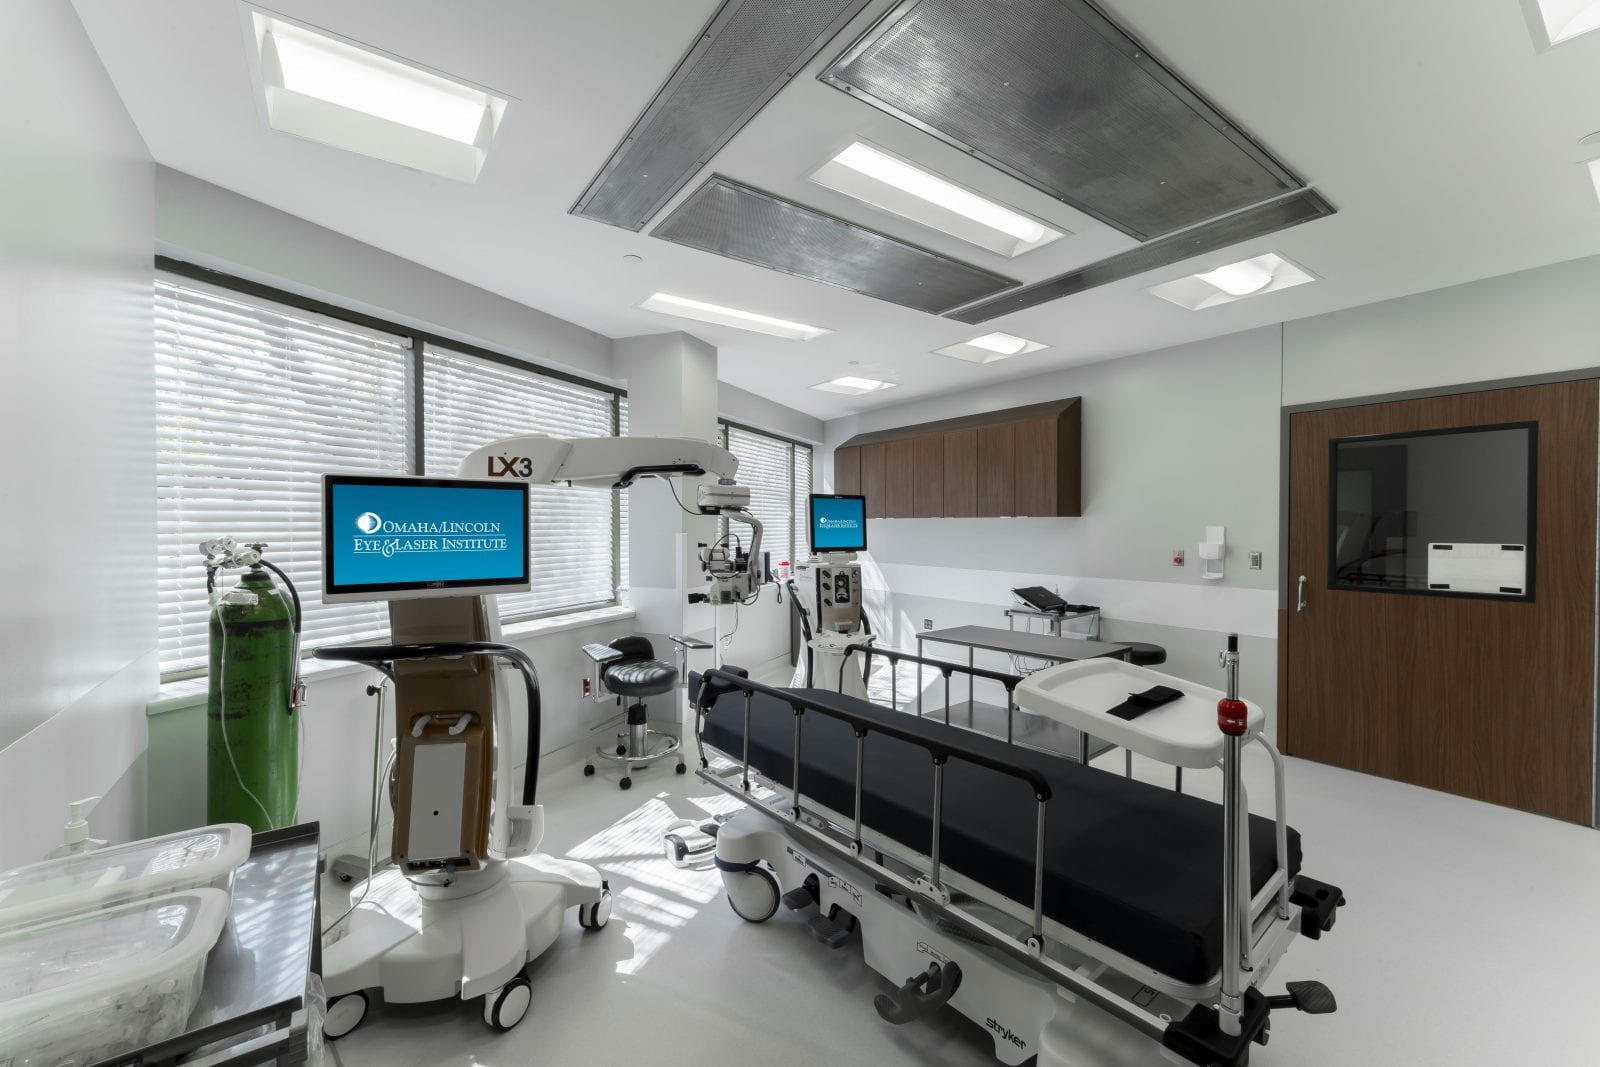TV: (1325, 417, 1540, 609)
bedrail: (685, 668, 1040, 955), (811, 641, 1033, 748)
bedside_monitor: (320, 475, 542, 599), (808, 493, 867, 553)
cabinet: (833, 424, 1085, 516)
chair: (581, 632, 710, 792)
dispenser: (33, 792, 124, 862), (1187, 528, 1231, 585)
door_handle: (1285, 567, 1312, 617)
iv_pole: (1214, 628, 1255, 1041)
operating_bed: (688, 631, 1342, 1067)
overbed_table: (1006, 653, 1286, 962)
